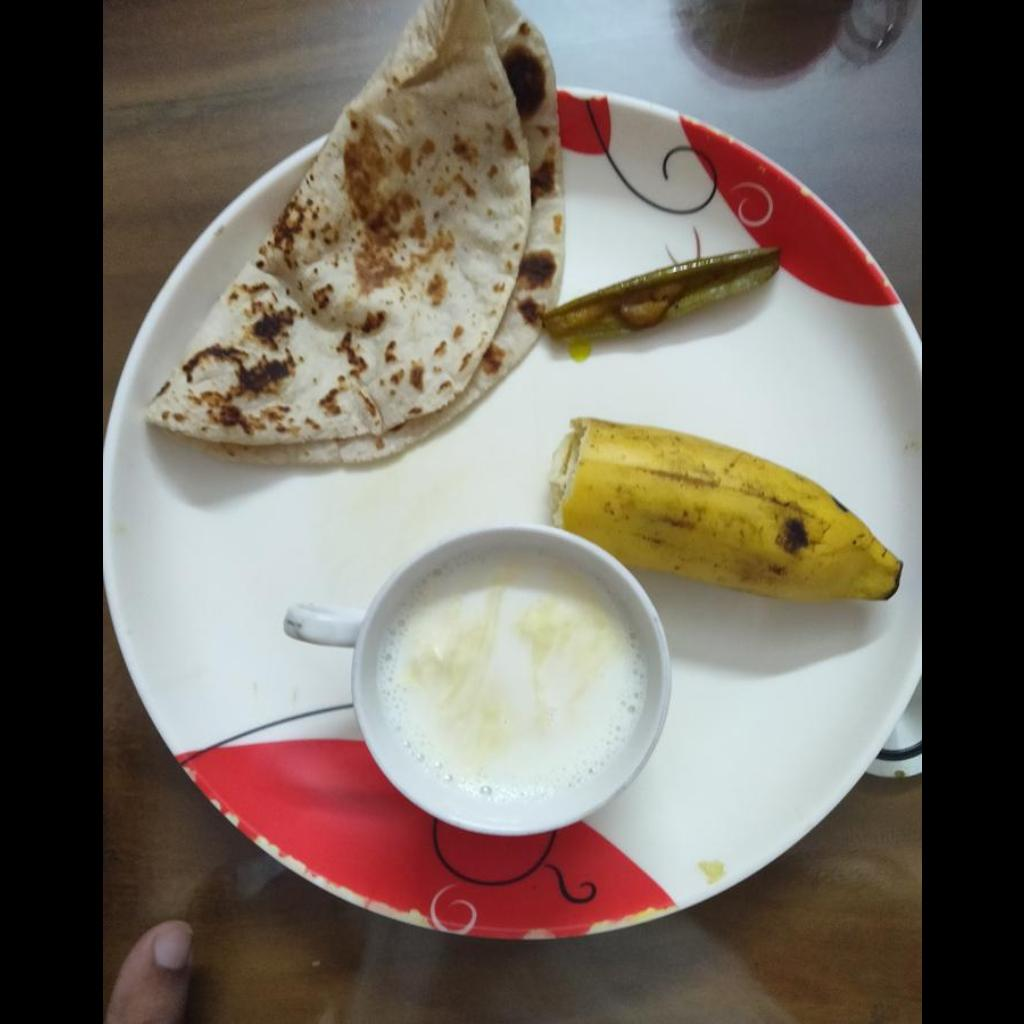banana: (548, 420, 907, 599)
milk: (377, 551, 647, 799)
potol: (541, 248, 778, 353)
ruti: (142, 5, 561, 469)
